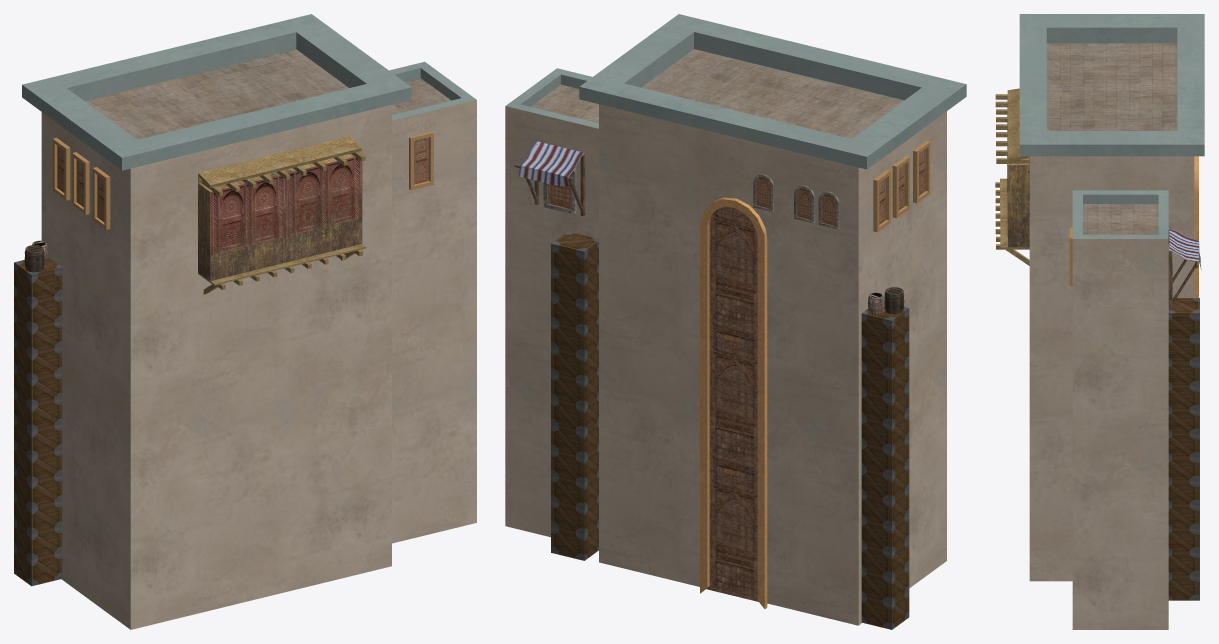
Rendered from medina_cityscape_daar_02_4.gltf.
3 renders of one model, left to right at view 1: azimuth 30°, elevation 25°; view 2: azimuth 150°, elevation 25°; view 3: azimuth 270°, elevation 25°, orthographic. The views are drawn at different scales.
Parts seen in each view (by area): view 1: medina_cityscape_daar_02_4; view 2: medina_cityscape_daar_02_4; view 3: medina_cityscape_daar_02_4.
Boxes of the visible parts, x1,y1,x2,y2 form: medina_cityscape_daar_02_4: (14,14,476,629); medina_cityscape_daar_02_4: (505,14,966,629); medina_cityscape_daar_02_4: (995,14,1204,629).
Size of the model in its own units: 7.31 by 8.45 by 3.58.
8 materials, 8 textured.
